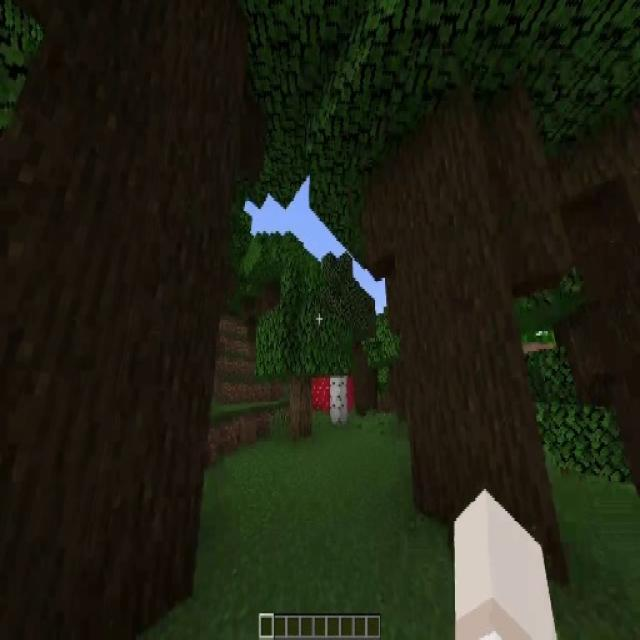birch: (299, 252, 376, 426)
birch_log: (329, 373, 347, 424)
dark_oak: (340, 0, 582, 554)
dark_oak_log: (0, 0, 228, 624), (383, 107, 548, 530)
oak: (257, 264, 351, 433)
oak_log: (291, 381, 309, 436)
